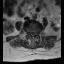CCS_normal: (32, 31, 34, 39)
LFS_stenosis: (36, 31, 37, 36)
LLS_stenosis: (34, 31, 35, 36)
RFS_stenosis: (28, 31, 30, 36)
RLS_stenosis: (30, 31, 32, 36)
